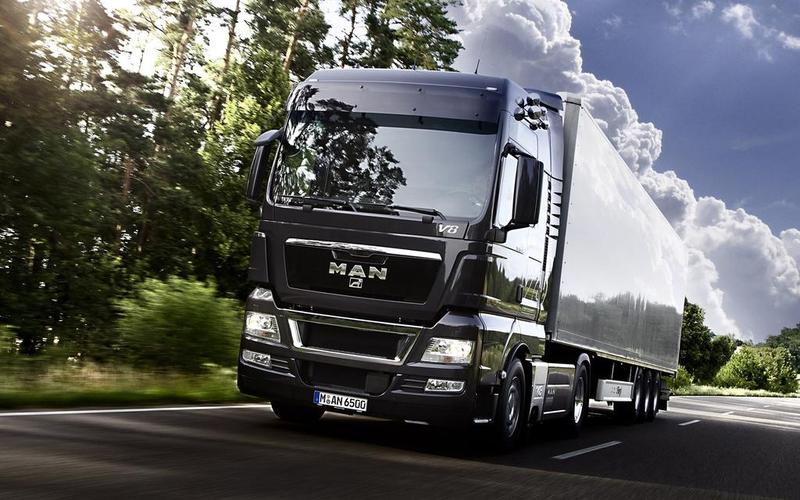卡车: (240, 55, 698, 463)
